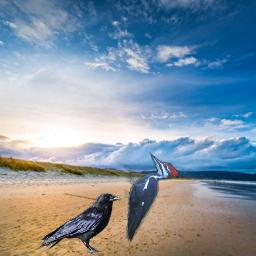Crow: (37, 191, 122, 256)
Woodpecker: (124, 150, 178, 245)
